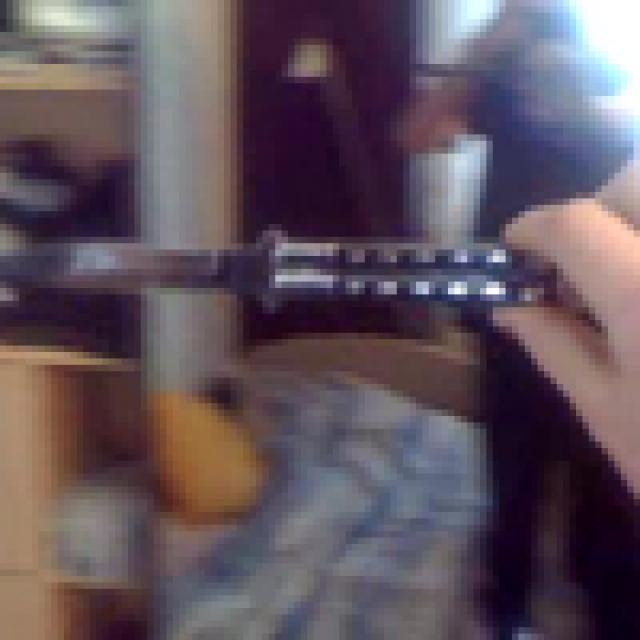knife: (12, 185, 596, 428)
